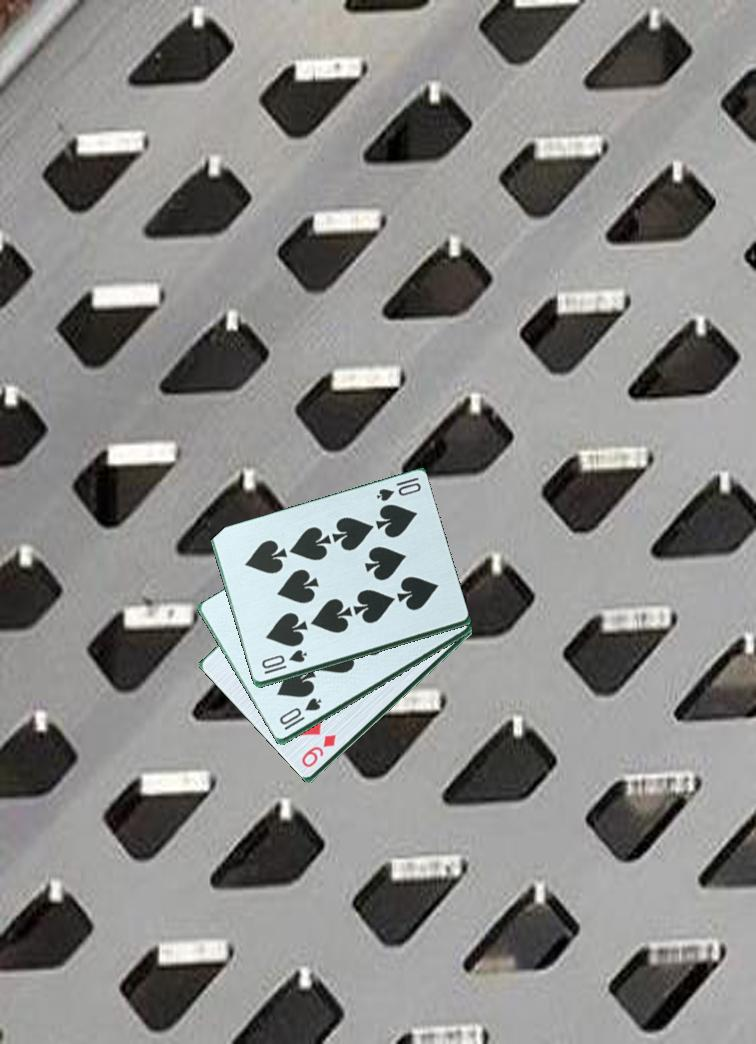9d: (298, 731, 339, 771)
ts: (276, 695, 325, 733), (372, 474, 424, 505), (258, 648, 310, 678)
